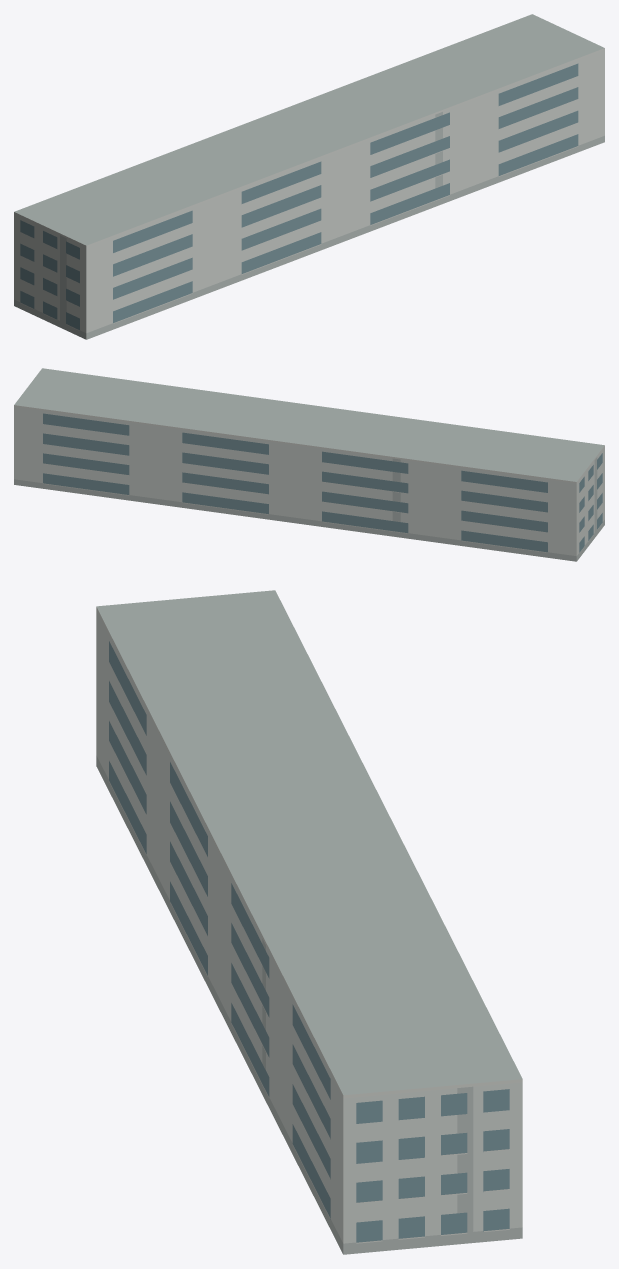
Rendered from residential-1fccde8d-fa26-43ce-a198-beff0e41cadd.glb.
3 renders of one model, top to bottom at view 1: azimuth 30°, elevation 25°; view 2: azimuth 150°, elevation 25°; view 3: azimuth 270°, elevation 25°, orthographic. The views are drawn at different scales.
Visible parts, largest first — view 1: residential-1fccde8d-fa26-43ce-a198-beff0e41cadd.tmp; view 2: residential-1fccde8d-fa26-43ce-a198-beff0e41cadd.tmp; view 3: residential-1fccde8d-fa26-43ce-a198-beff0e41cadd.tmp.
Part boxes in pixels (left/top/right/bottom): residential-1fccde8d-fa26-43ce-a198-beff0e41cadd.tmp: left=14, top=14, right=604, bottom=339; residential-1fccde8d-fa26-43ce-a198-beff0e41cadd.tmp: left=14, top=368, right=604, bottom=561; residential-1fccde8d-fa26-43ce-a198-beff0e41cadd.tmp: left=96, top=590, right=522, bottom=1254.
Bounding box in the file's own units: 82.87 × 12.2 × 29.58.
